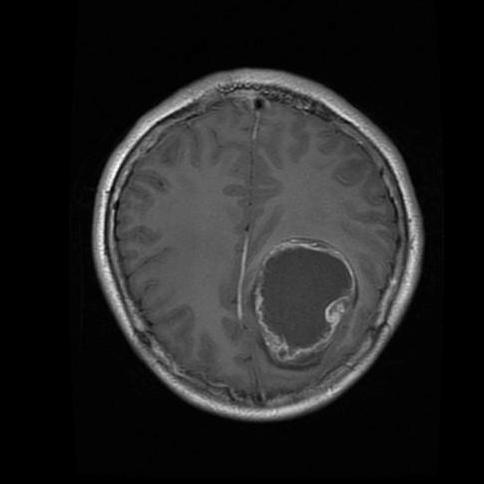Tumour-Glioma: (259, 244, 351, 366)
